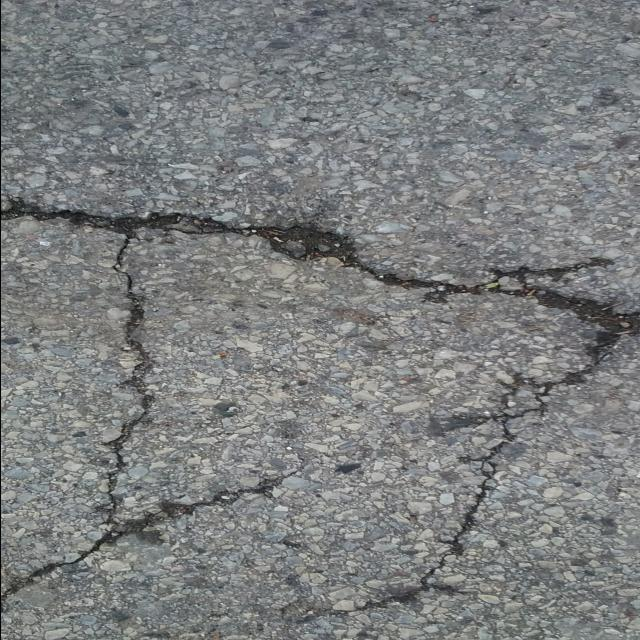Crack: (0, 199, 640, 616)
